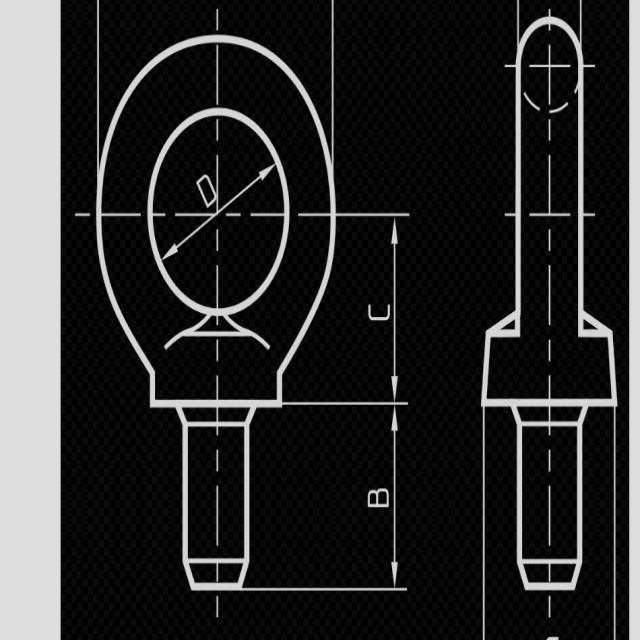marking_line: (256, 408, 408, 600), (283, 399, 414, 596), (338, 211, 410, 411), (165, 163, 274, 259), (286, 374, 414, 419), (477, 408, 490, 640)
